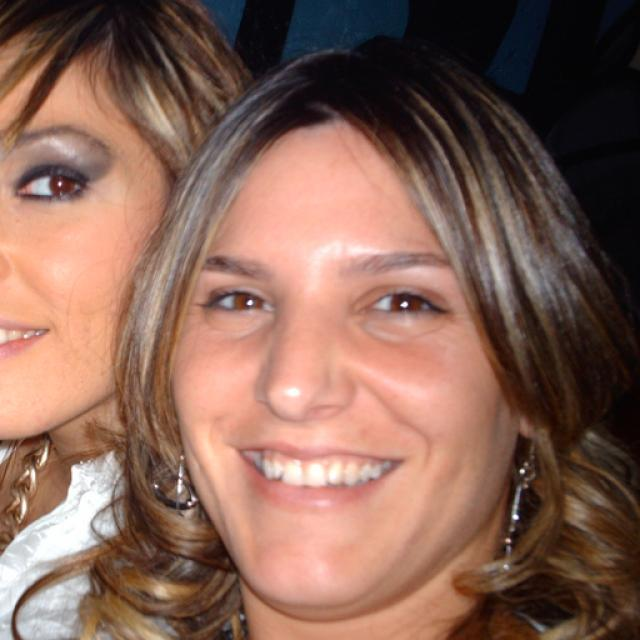happy: (178, 111, 522, 612), (0, 34, 176, 438)
